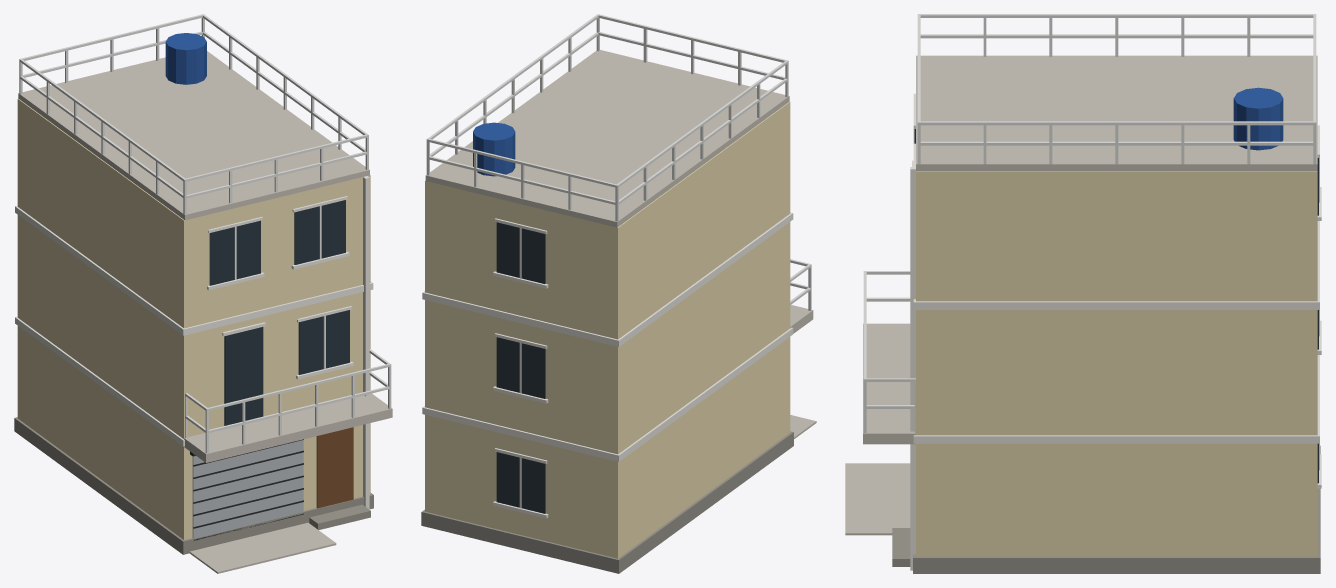
Rendered from BAY_F_ThreeStorey_B.glb.
The picture shows the model from 3 angles, left to right: view 1: azimuth 30°, elevation 25°; view 2: azimuth 150°, elevation 25°; view 3: azimuth 270°, elevation 25°; orthographic projection. The views are drawn at different scales.
Visible parts, largest first — view 1: BAY_F_ThreeStorey_B; view 2: BAY_F_ThreeStorey_B; view 3: BAY_F_ThreeStorey_B.
Boxes of the visible parts, <box> form: BAY_F_ThreeStorey_B: <box>14,14,392,573</box>; BAY_F_ThreeStorey_B: <box>421,14,816,573</box>; BAY_F_ThreeStorey_B: <box>845,14,1321,573</box>.
Bounding box in the file's own units: 4.5 × 8.4 × 8.07.
Materials: 1 (1 with a texture image).
